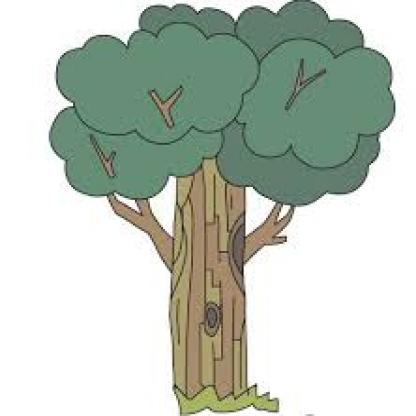crown_cloud: (44, 3, 398, 204)
knot: (224, 211, 248, 290), (197, 303, 224, 337)
trunk_bark: (161, 278, 258, 363)
